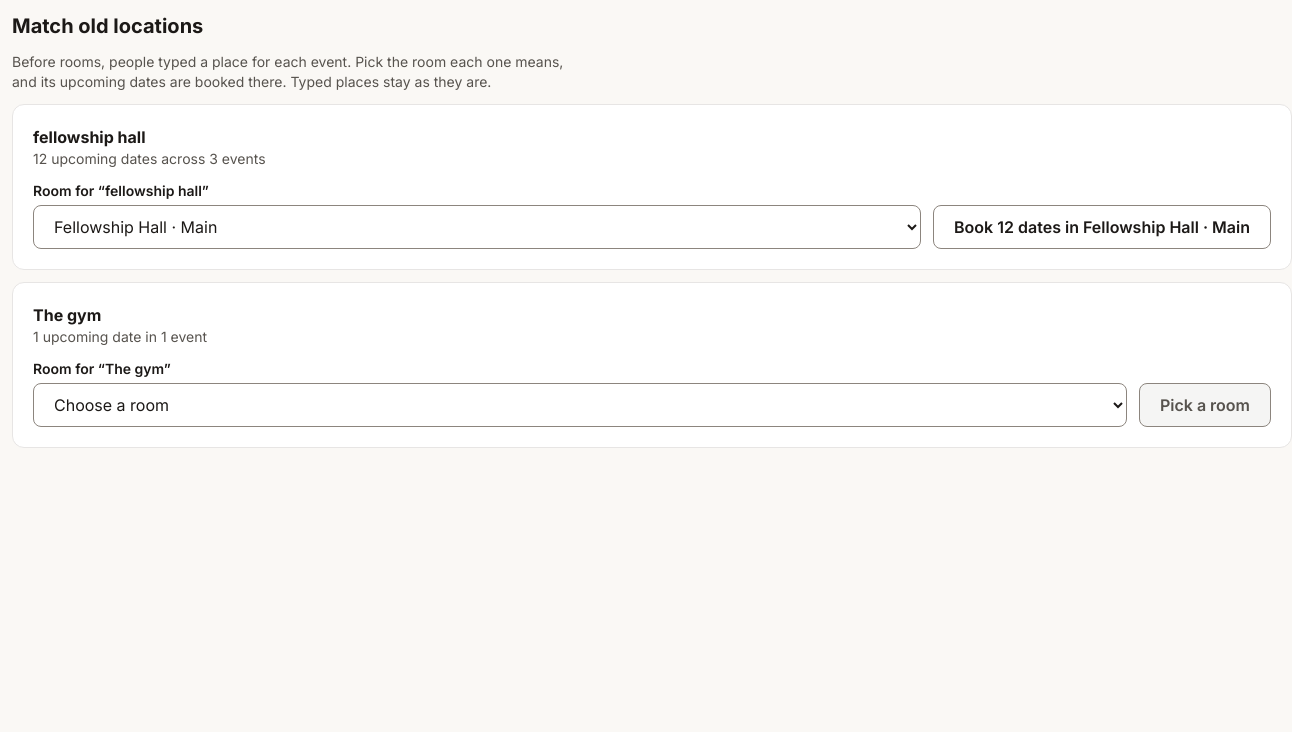
MatchLocations › says a single taken date in the singular, and nothing about a list when none were left alone
This screenshot has width=1292, height=732.
Expected: the text "The gym" is shown, [33, 305, 101, 325]
Select "Chapel" in the dropdown labelled "Room for “The gym”" at (580, 405), box [33, 383, 1127, 427]
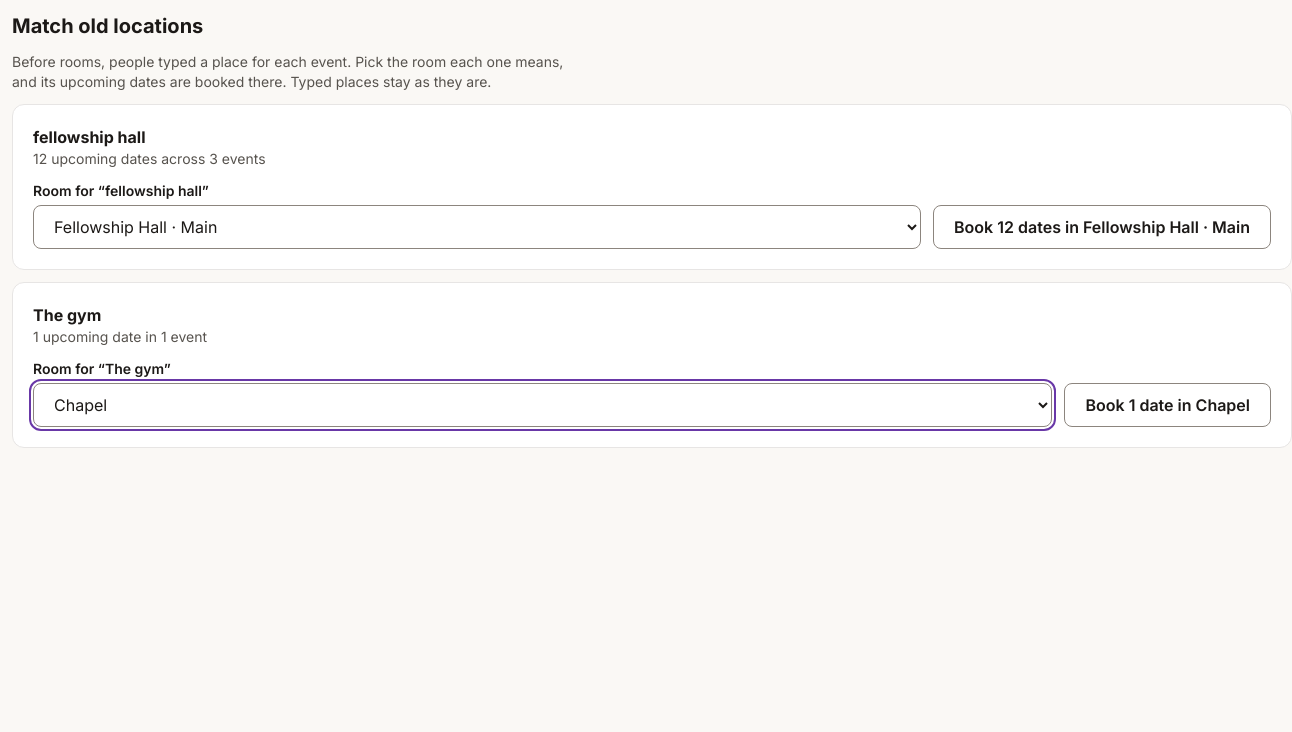
Click the button "Book 1 date in Chapel" at (1168, 405), box [1064, 383, 1271, 427]
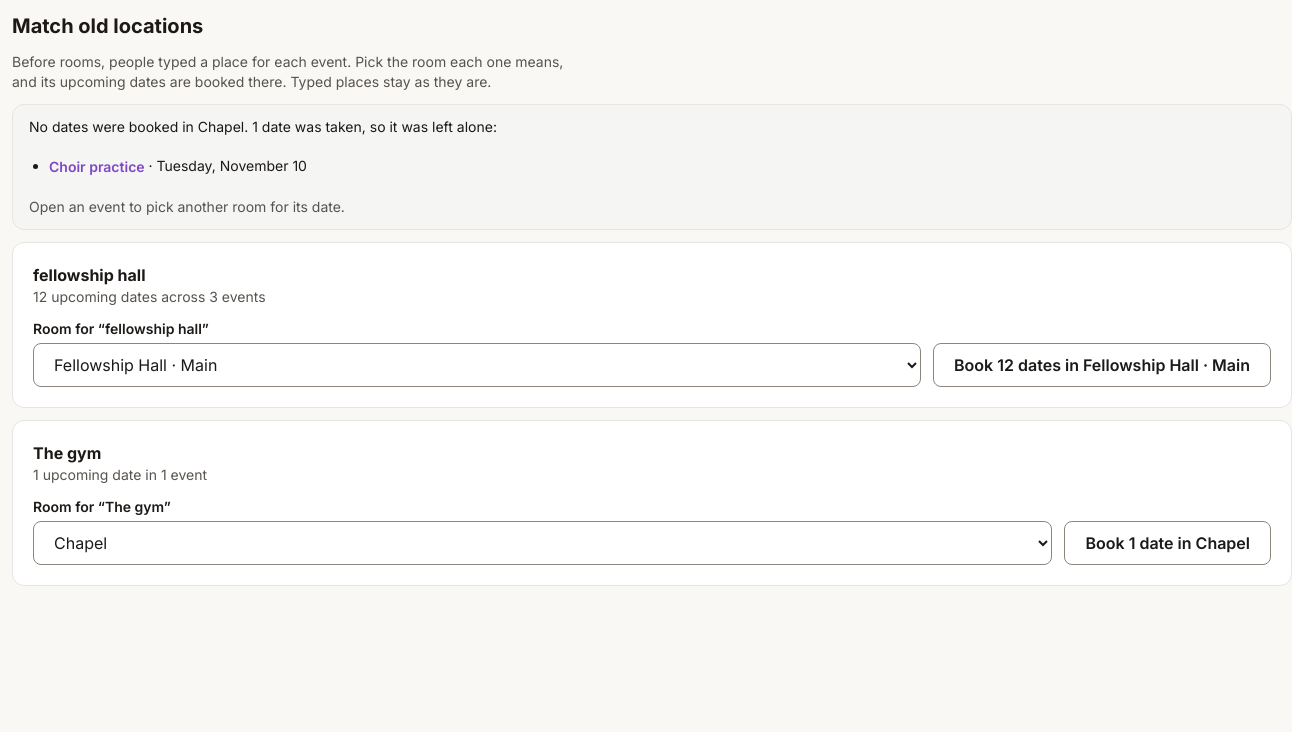
Expected: the message reads "No dates were booked in Chapel. 1 date was taken, so it was left alone:", [29, 118, 497, 135]
